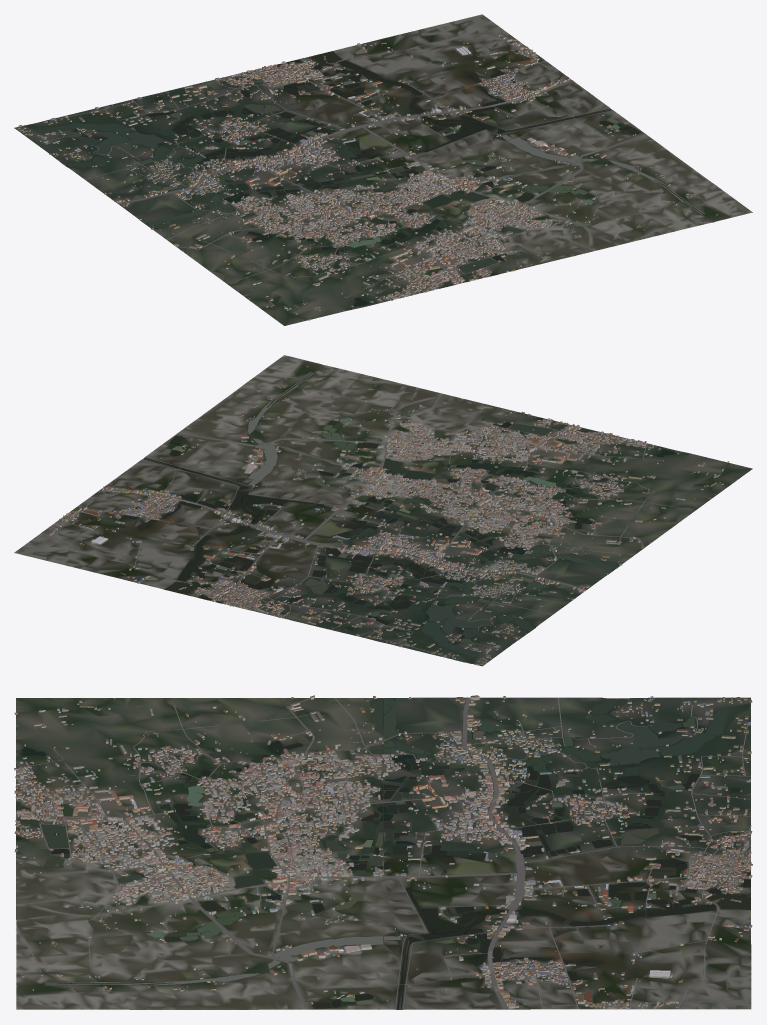
3 views of the same model, one above another, from view 1: azimuth 30°, elevation 25°; view 2: azimuth 150°, elevation 25°; view 3: azimuth 270°, elevation 25° (orthographic). The views are drawn at different scales.
Visible parts, largest first — view 1: ground, buildings, water, roads; view 2: ground, buildings, water, roads; view 3: ground, buildings, water, roads.
Part boxes in pixels (box(x1,y1,x2,y2)): ground: box(14, 14, 752, 325); buildings: box(16, 34, 718, 320); water: box(26, 51, 705, 306); roads: box(47, 17, 685, 303); ground: box(14, 355, 752, 666); buildings: box(43, 366, 729, 665); water: box(122, 371, 675, 663); roads: box(24, 375, 705, 665); ground: box(16, 697, 751, 1009); buildings: box(14, 695, 752, 1009); water: box(16, 698, 750, 1009); roads: box(16, 697, 751, 1009).
Size of the model in its own units: 2815 by 29.25 by 2819.
